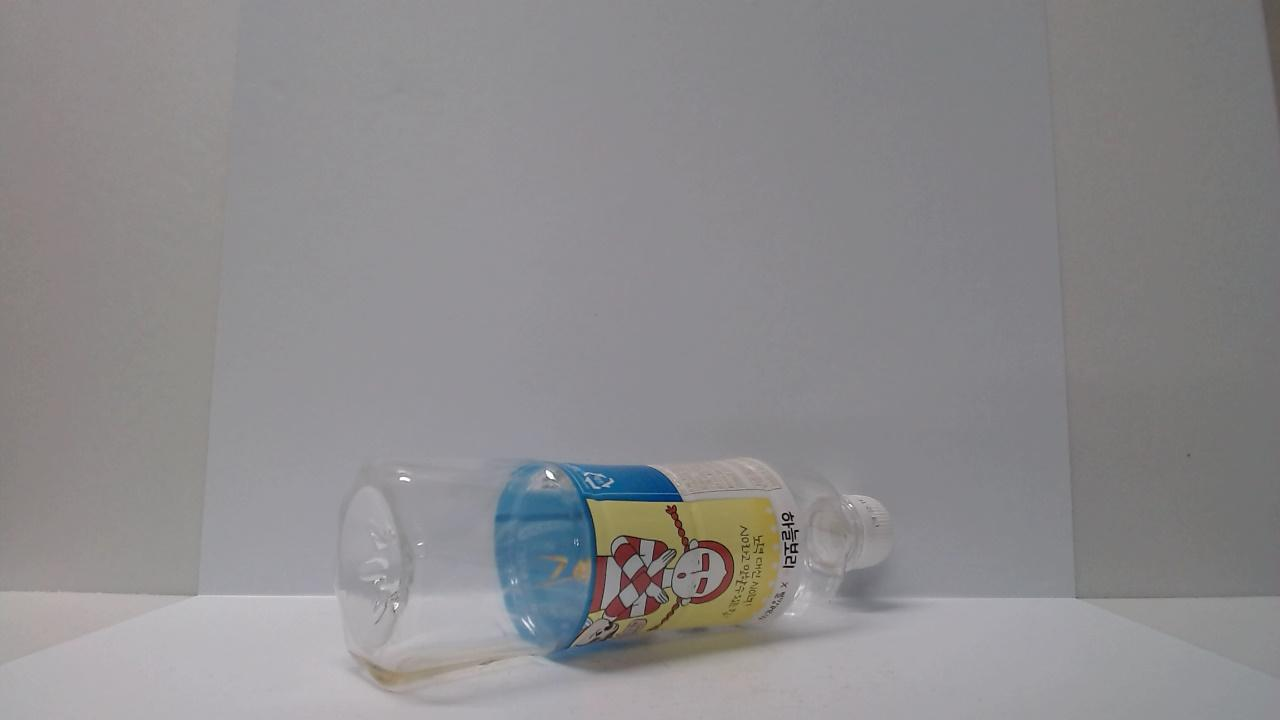bottle: (239, 421, 803, 701)
